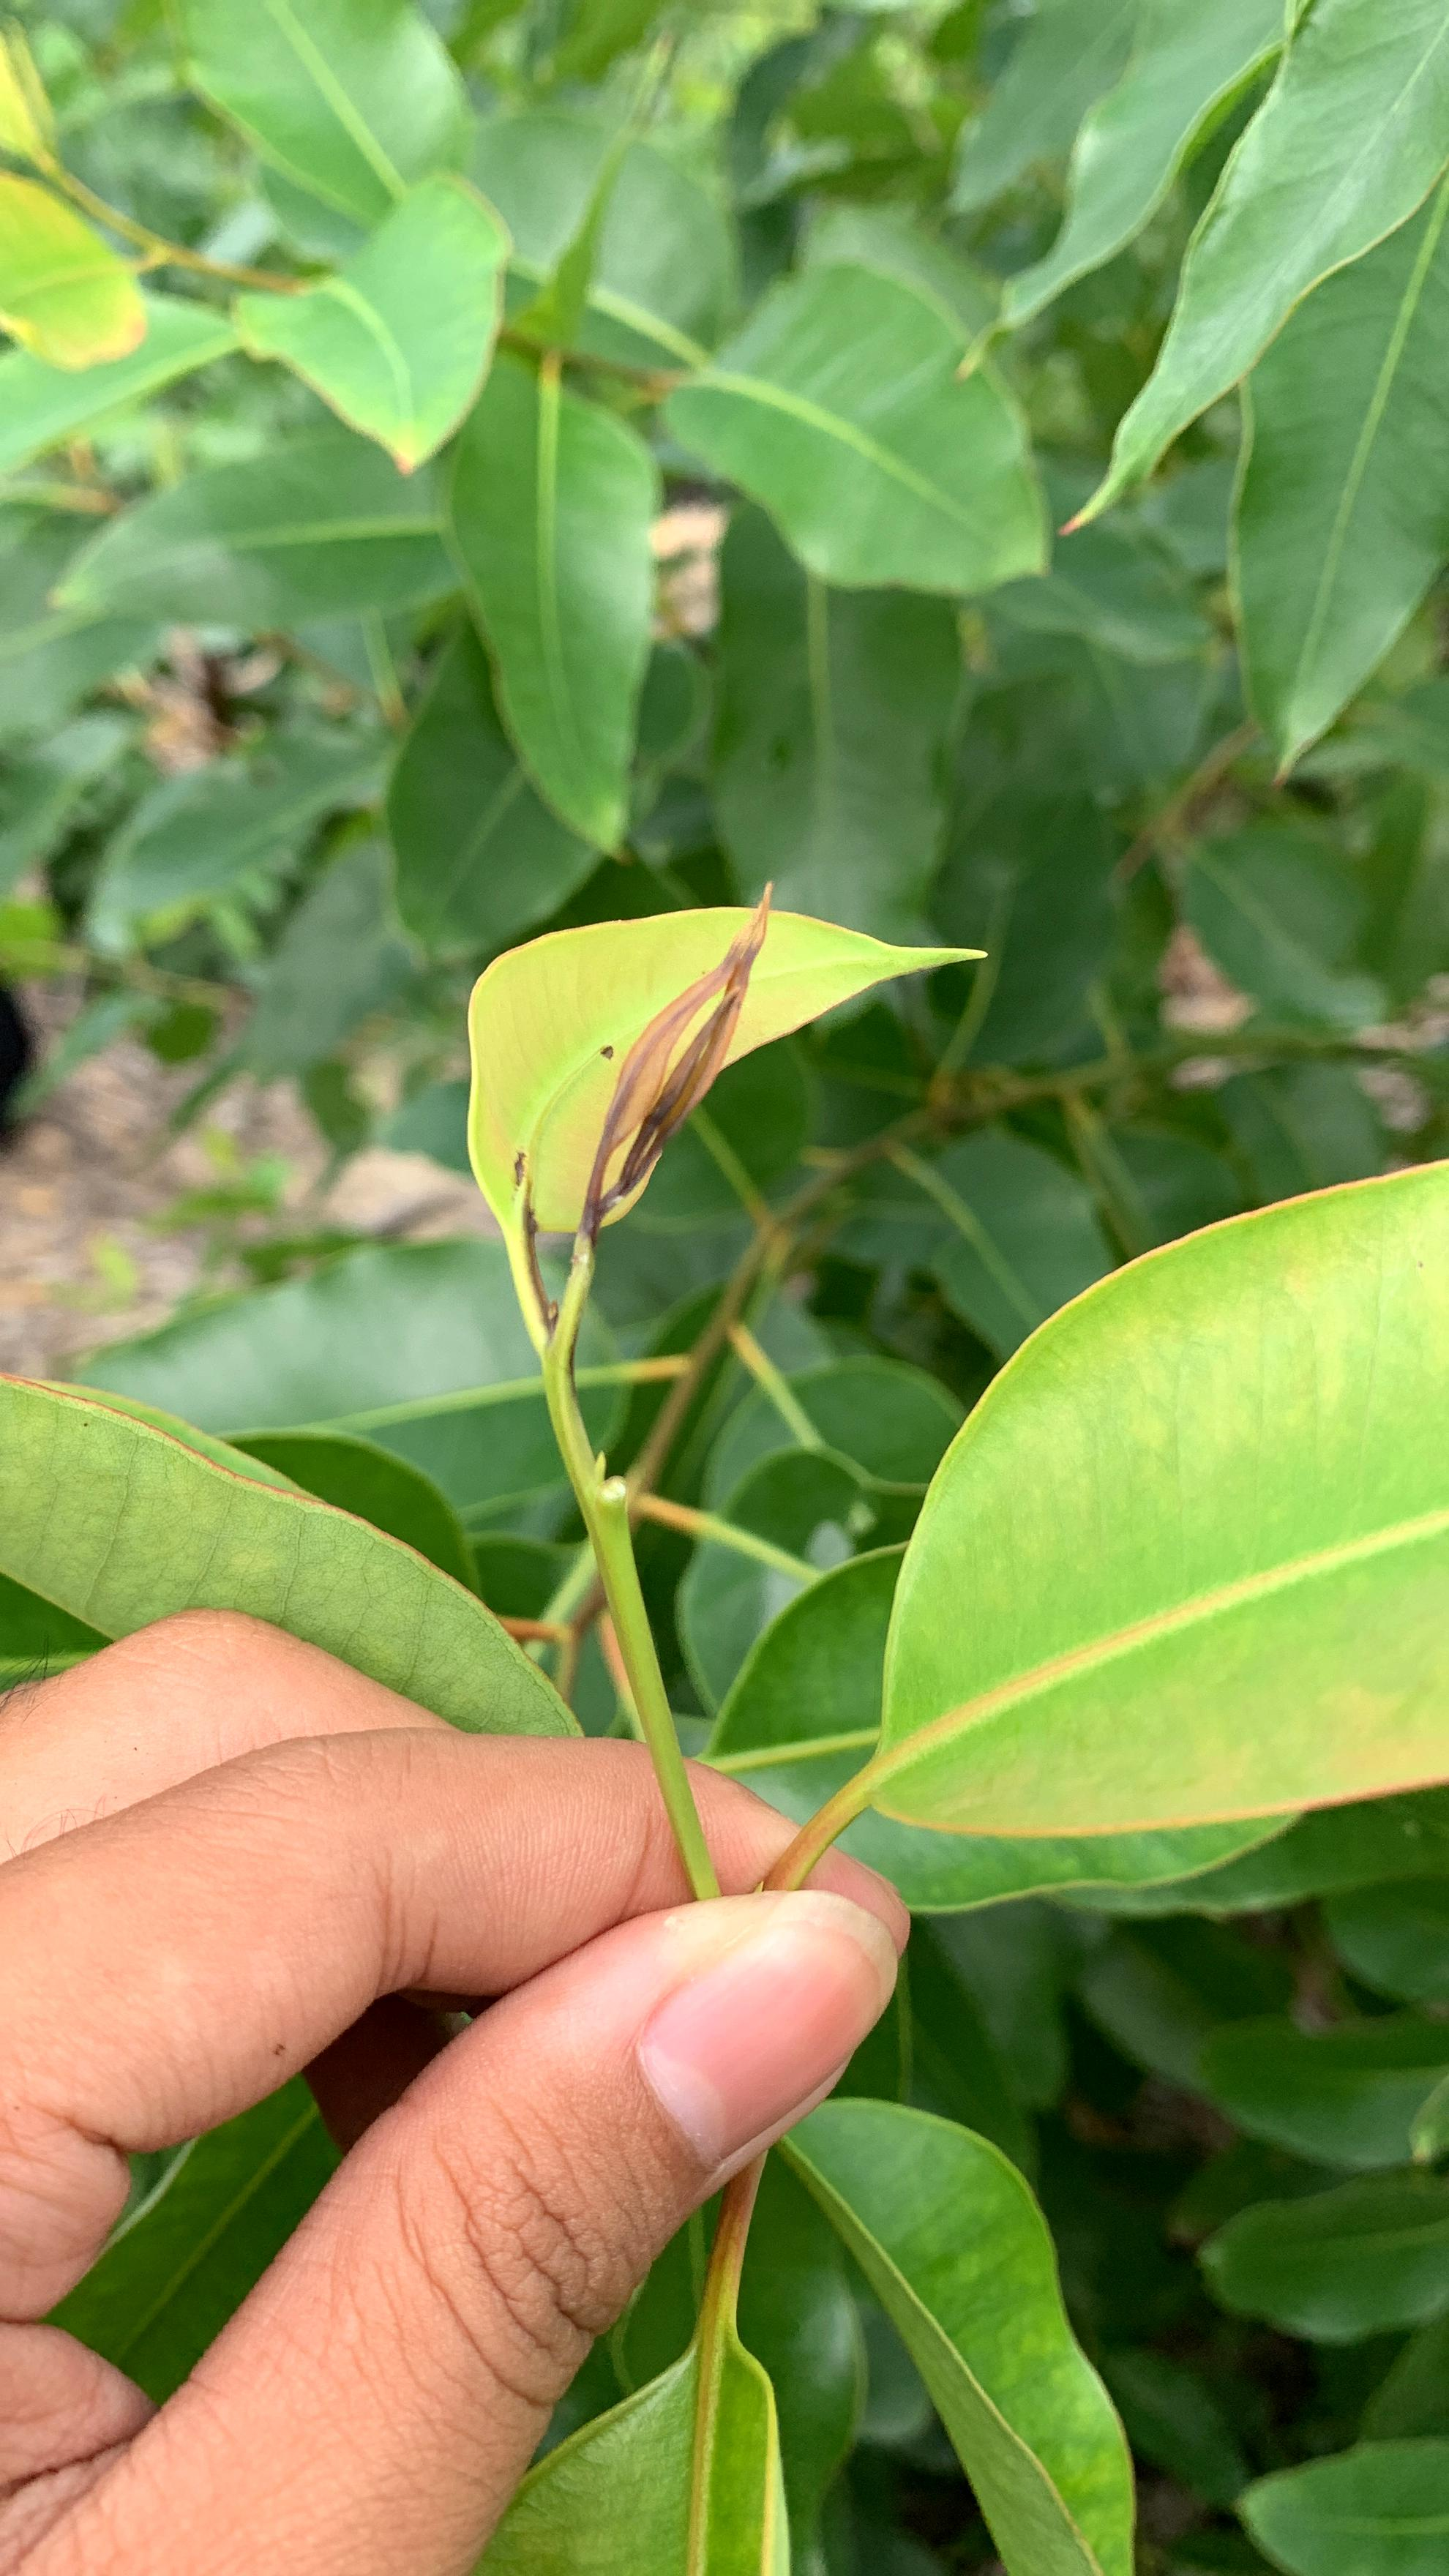Helopeltis-Withered Sprout: (471, 887, 858, 1360)
